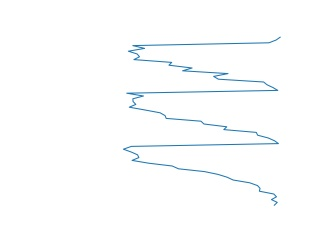distributaryMouthBar: (121, 35, 285, 207)
